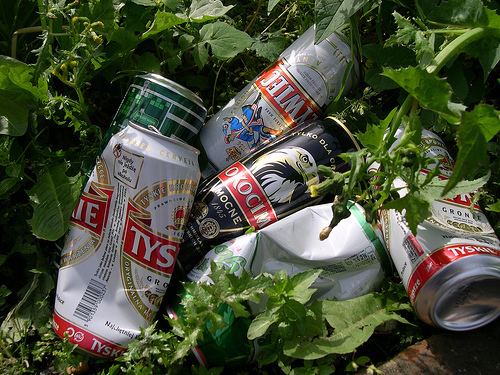litter: (50, 118, 201, 362), (365, 120, 500, 333), (202, 163, 365, 298), (203, 25, 355, 166), (117, 71, 206, 119)
